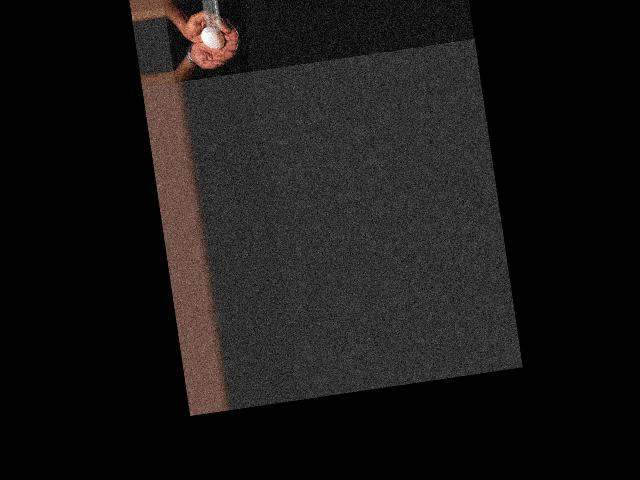egg: (200, 24, 226, 51)
